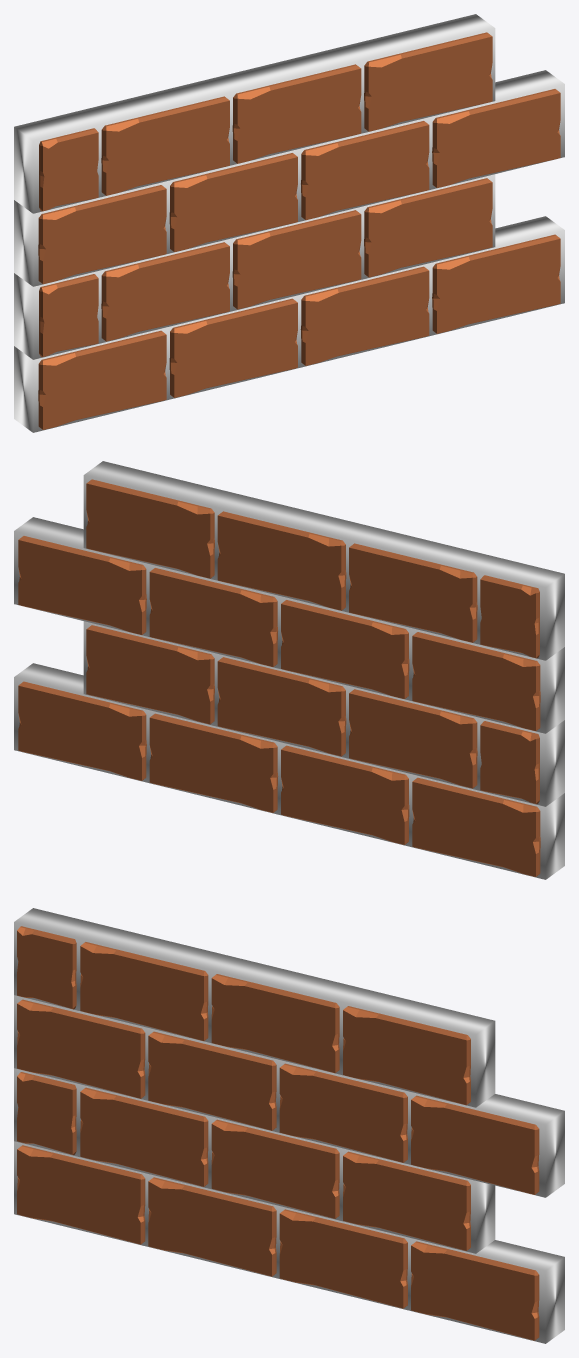
File: Left_Wall.fbx
The picture shows the model from 3 angles, top to bottom: view 1: azimuth 30°, elevation 25°; view 2: azimuth 150°, elevation 25°; view 3: azimuth 330°, elevation 25°; orthographic projection.
Visible parts, largest first — view 1: Wall_Modular.003, Wall_Modular.006, Cube.003, Cube.001, Wall_Modular.002, Wall_Modular.007; view 2: Wall_Modular.003, Wall_Modular.006, Cube.003, Cube.001, Wall_Modular.002, Wall_Modular.007; view 3: Wall_Modular.003, Wall_Modular.006, Cube.003, Cube.001, Wall_Modular.002, Wall_Modular.007.
Boxes of the visible parts, x1,y1,x2,y2 form: Wall_Modular.003: (38,89,560,397); Wall_Modular.006: (101,32,492,341); Cube.003: (14,14,495,359); Cube.001: (14,70,564,432); Wall_Modular.002: (38,330,166,429); Wall_Modular.007: (39,128,98,357); Wall_Modular.003: (18,536,540,844); Wall_Modular.006: (86,479,477,788); Cube.003: (83,461,564,806); Cube.001: (14,517,564,879); Wall_Modular.002: (412,777,540,876); Wall_Modular.007: (480,575,539,804); Wall_Modular.003: (17,999,539,1340); Wall_Modular.006: (80,942,470,1250); Cube.003: (14,908,495,1253); Cube.001: (14,995,564,1343); Wall_Modular.002: (17,1145,145,1244); Wall_Modular.007: (17,926,76,1155).
Size of the model in its own units: 320 by 168 by 27.04.
